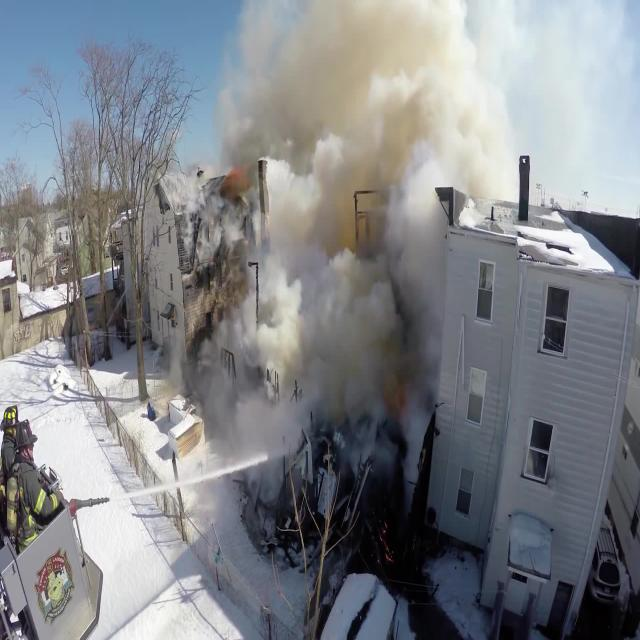Smoke: (218, 0, 490, 454)
